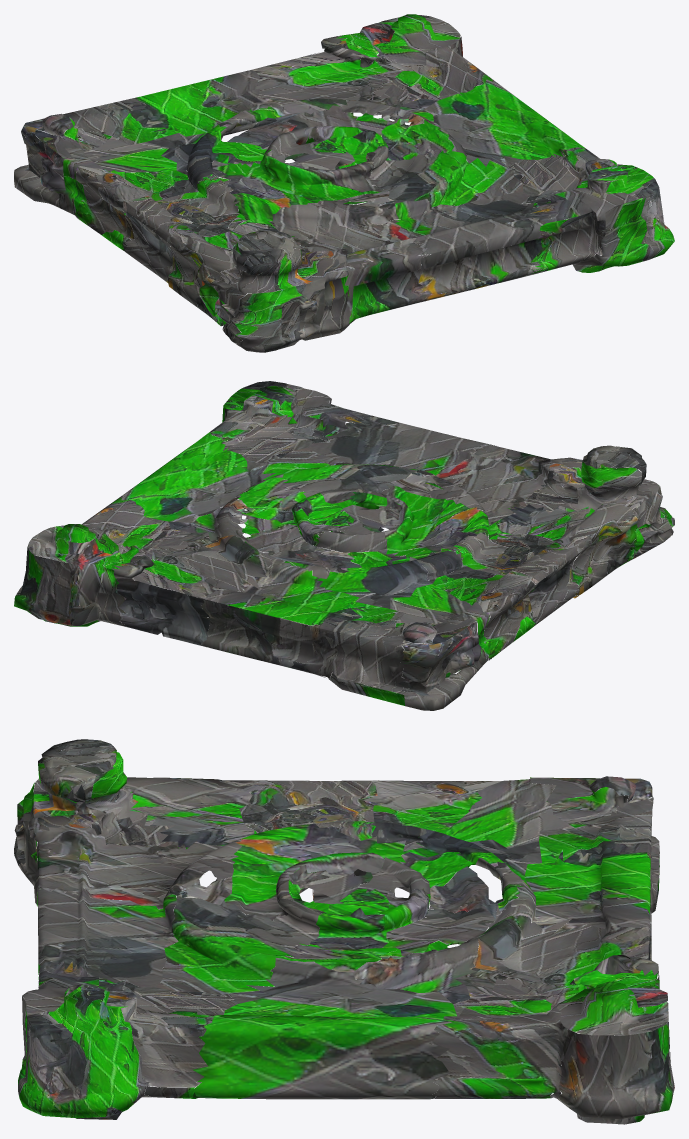
Rendered from env_freight_deck_pad_01.glb.
3 renders of one model, top to bottom at view 1: azimuth 30°, elevation 25°; view 2: azimuth 150°, elevation 25°; view 3: azimuth 270°, elevation 25°, orthographic. The views are drawn at different scales.
Visible parts, largest first — view 1: tripo_node_67df3765-963b-4b74-9a0a-32da147d2dd8; view 2: tripo_node_67df3765-963b-4b74-9a0a-32da147d2dd8; view 3: tripo_node_67df3765-963b-4b74-9a0a-32da147d2dd8.
Part boxes in pixels (x1,y1,x2,y2): tripo_node_67df3765-963b-4b74-9a0a-32da147d2dd8: (14,14,674,352); tripo_node_67df3765-963b-4b74-9a0a-32da147d2dd8: (14,381,674,710); tripo_node_67df3765-963b-4b74-9a0a-32da147d2dd8: (14,739,674,1124).
Size of the model in its own units: 1 by 0.2282 by 0.9946.
1 material, 1 textured.
